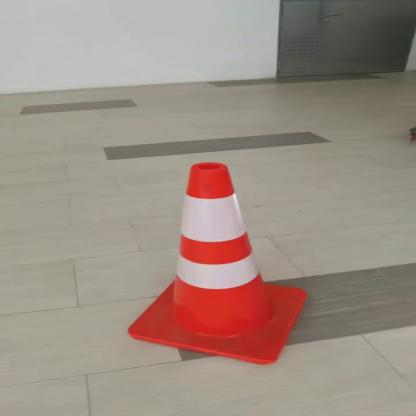cone: (120, 152, 322, 372)
